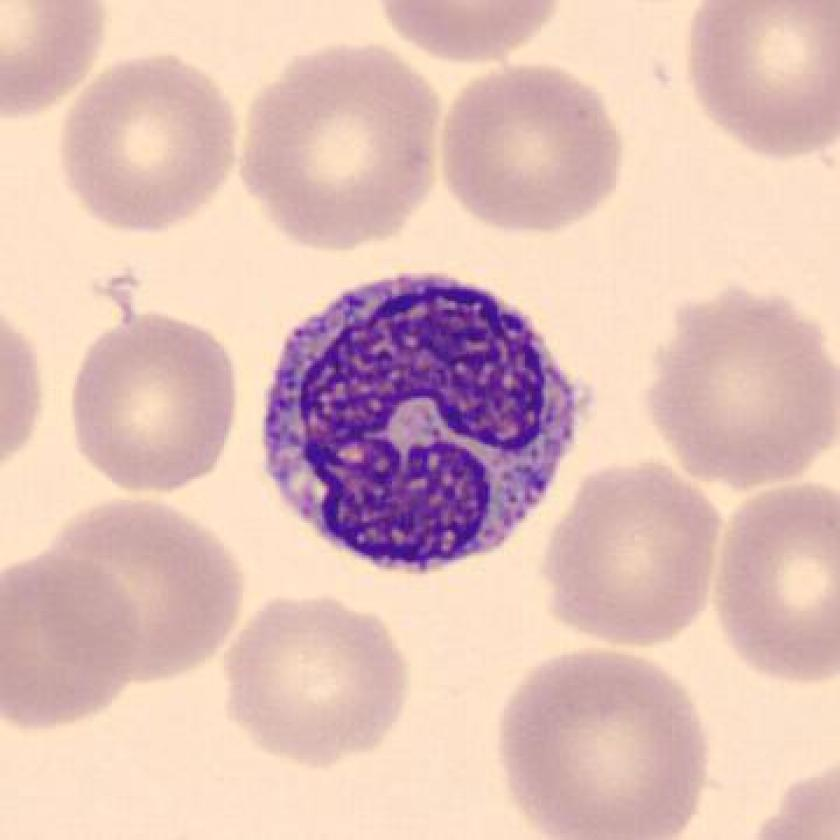monocyte: (246, 251, 601, 589)
